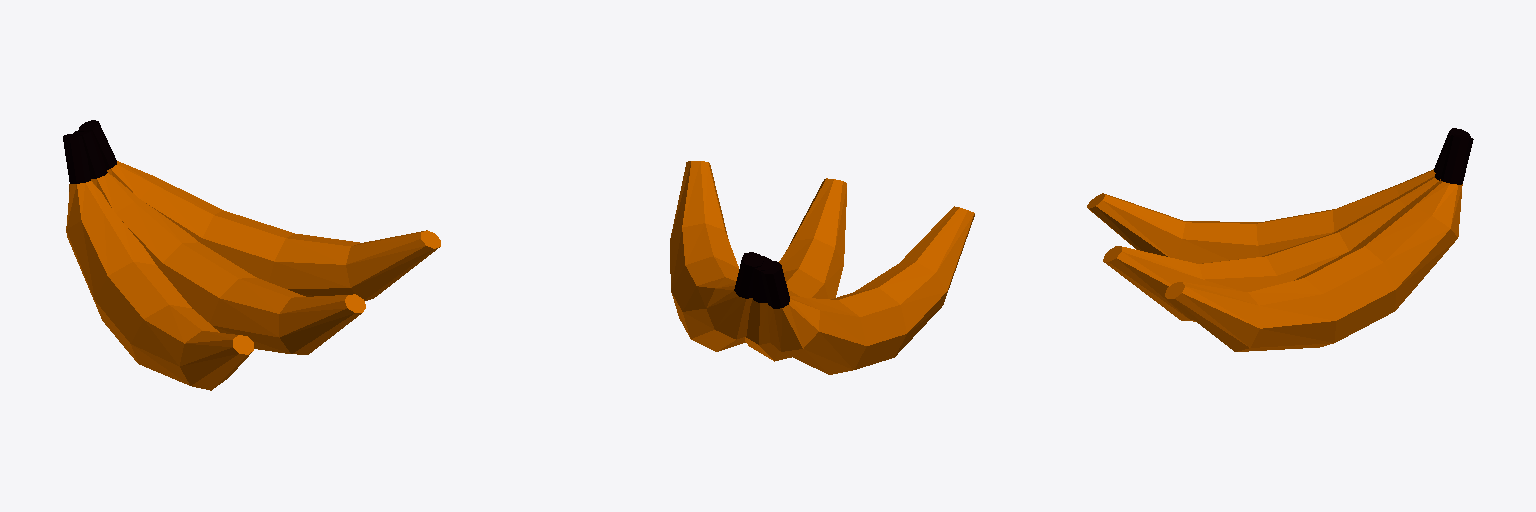
The model's file is bananas_clr.obj.
3 views of the same model, side by side, from view 1: azimuth 30°, elevation 25°; view 2: azimuth 150°, elevation 25°; view 3: azimuth 270°, elevation 25° (orthographic).
Parts seen in each view (by area): view 1: Bananas; view 2: Bananas; view 3: Bananas.
Part boxes in pixels (x1,y1,x2,y2): Bananas: (63, 120, 440, 390); Bananas: (670, 161, 974, 374); Bananas: (1087, 128, 1473, 351).
Size of the model in its own units: 6.77 by 4.17 by 8.59.